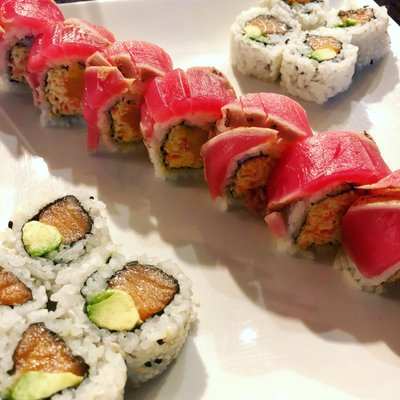soup: (0, 147, 197, 400), (228, 0, 391, 104)
